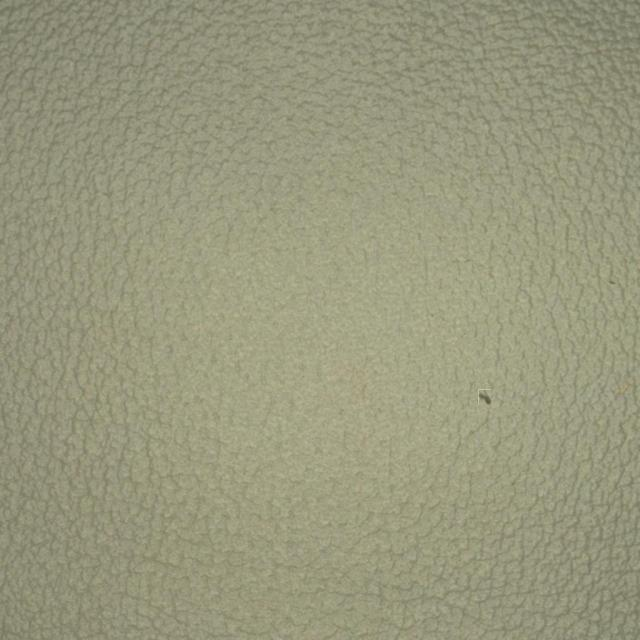pinhole: (410, 336, 573, 466)
